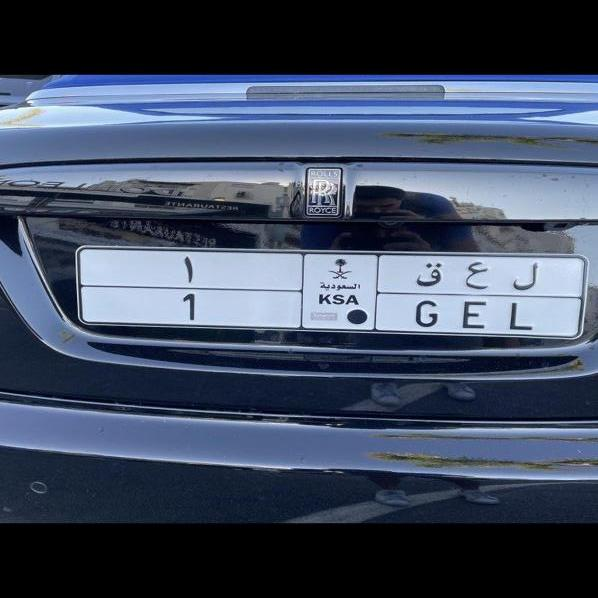numberplate: (117, 250, 553, 337)
